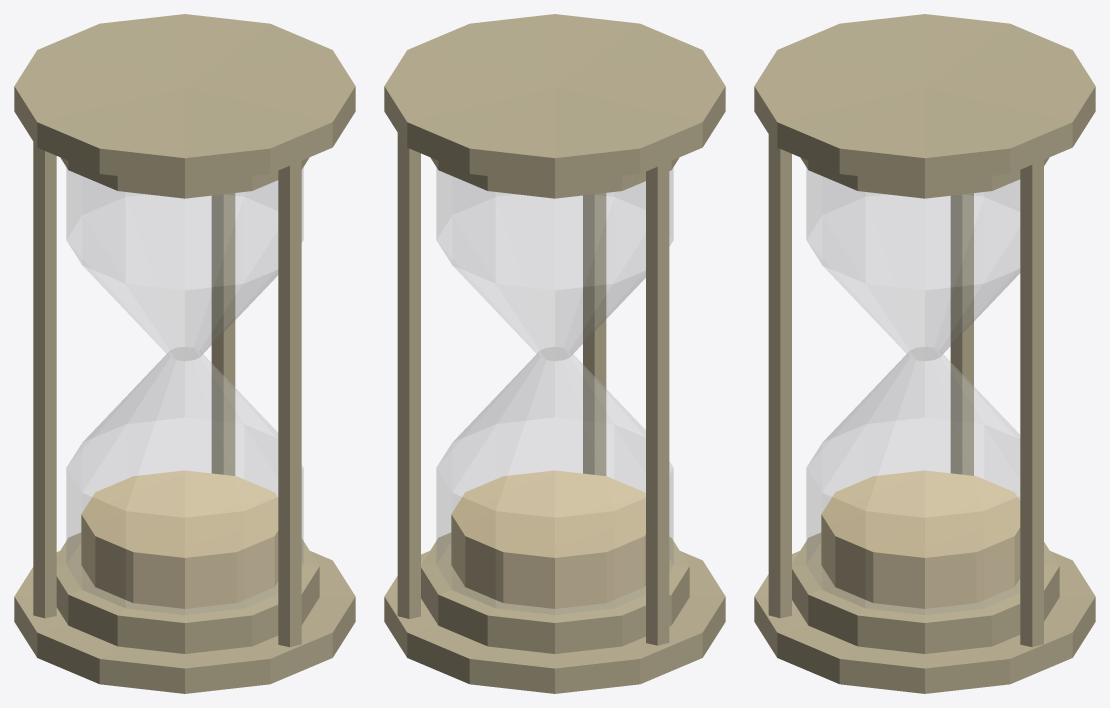
The model's file is SM_Sablier.fbx.
3 views of the same model, side by side, from view 1: azimuth 30°, elevation 25°; view 2: azimuth 150°, elevation 25°; view 3: azimuth 270°, elevation 25° (orthographic).
Visible parts, largest first — view 1: Sablier; view 2: Sablier; view 3: Sablier.
Part boxes in pixels (box(x1,y1,x2,y2)): Sablier: box(14, 14, 355, 693); Sablier: box(384, 14, 725, 693); Sablier: box(754, 14, 1095, 693).
Size of the model in its own units: 2.36 by 4.08 by 2.36.
